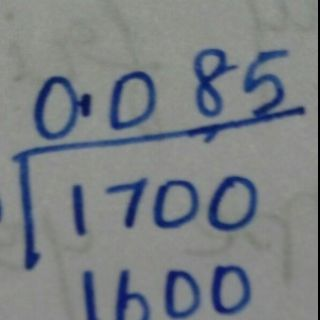.: (80, 91, 93, 118)
0: (31, 76, 80, 142), (106, 68, 157, 131), (206, 174, 259, 234), (152, 173, 199, 232), (210, 258, 253, 320), (162, 266, 203, 320)
1: (66, 180, 90, 238), (80, 263, 100, 320)
5: (242, 49, 290, 115)
6: (112, 266, 152, 320)
7: (101, 174, 148, 231)
8: (191, 46, 240, 119)
